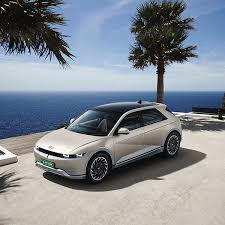Honda Ioniq: (33, 97, 185, 193)
